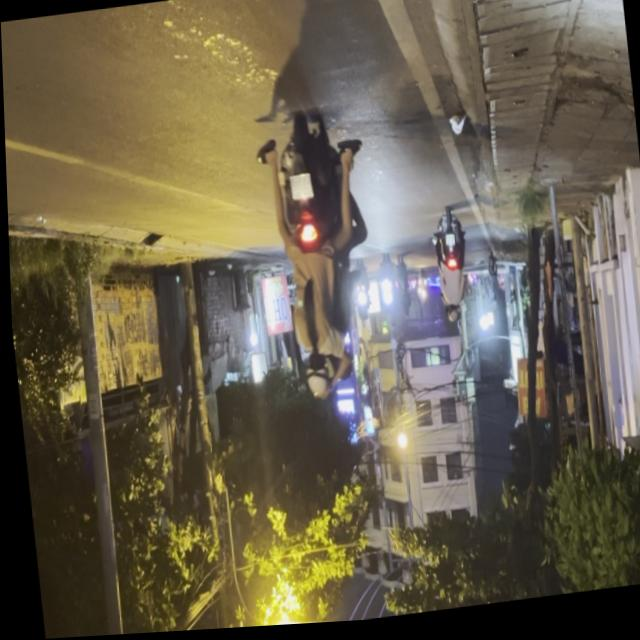helmet: (299, 354, 330, 406)
licenseplate: (252, 109, 381, 413)
nohelmet: (286, 178, 311, 205)
